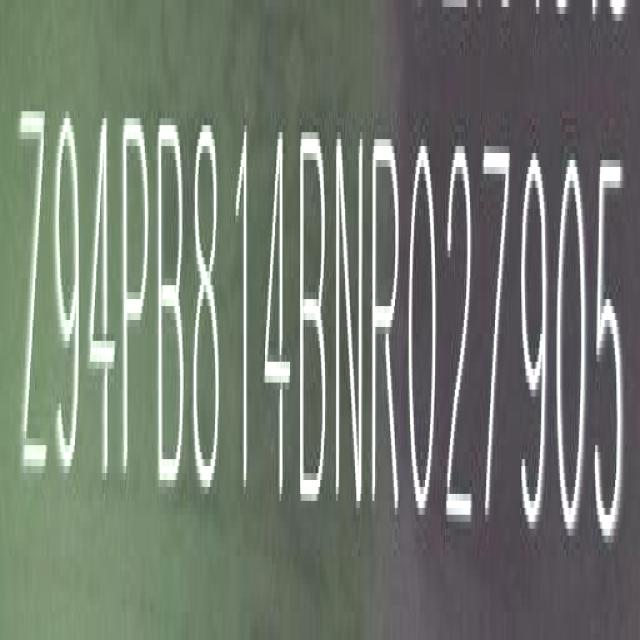0: (406, 142, 442, 528), (556, 150, 587, 547)
1: (234, 124, 252, 512)
2: (446, 138, 477, 537)
4: (262, 124, 292, 516), (88, 106, 117, 498)
5: (592, 146, 624, 550)
7: (482, 139, 513, 543)
8: (193, 121, 226, 507)
9: (520, 149, 551, 542), (53, 108, 82, 497)
B: (156, 105, 189, 500), (298, 119, 330, 514)
N: (333, 127, 366, 521)
P: (120, 105, 151, 500)
R: (370, 135, 402, 524)
Z: (18, 100, 48, 497)
